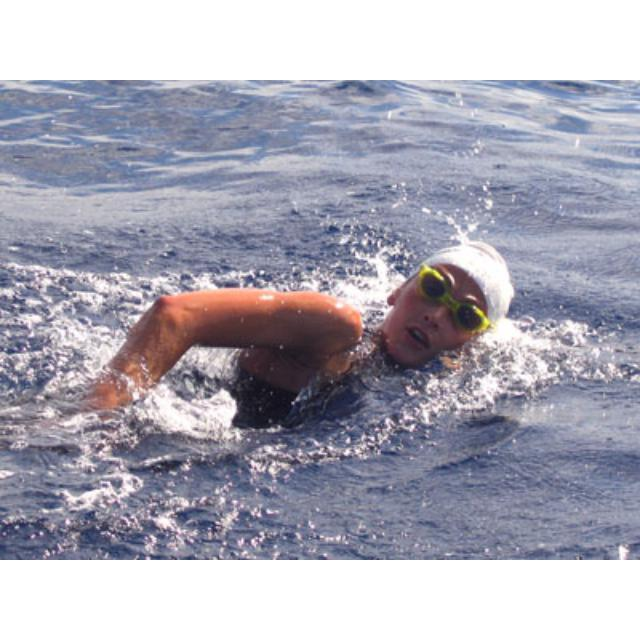human: (86, 240, 518, 427)
